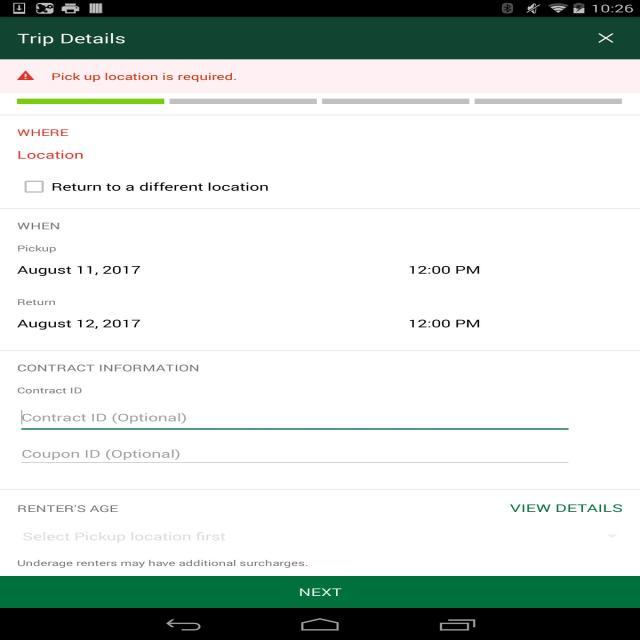button: (0, 576, 640, 610), (589, 30, 622, 50), (18, 176, 48, 198)
field: (12, 522, 625, 547), (17, 405, 576, 430), (18, 436, 576, 461)
heading: (15, 362, 204, 376), (15, 26, 129, 49), (12, 148, 86, 162), (13, 125, 70, 139)
label: (18, 528, 228, 542), (18, 445, 183, 458), (20, 413, 191, 424), (15, 502, 119, 514), (15, 386, 90, 395), (17, 219, 64, 231), (15, 243, 60, 254), (14, 298, 56, 306)
link: (504, 499, 630, 515)
text: (7, 65, 239, 85), (46, 176, 276, 194), (16, 558, 310, 568), (13, 318, 146, 332), (16, 264, 148, 276), (406, 318, 488, 331), (406, 266, 486, 276)
